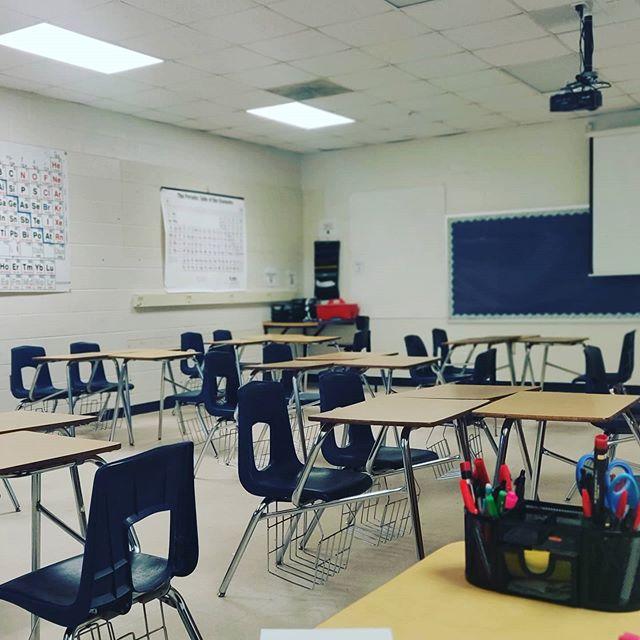chair: (18, 440, 212, 640), (226, 394, 369, 591), (312, 371, 435, 524), (572, 321, 640, 390), (13, 342, 71, 422), (72, 337, 130, 417), (176, 353, 234, 433), (404, 332, 441, 381)
